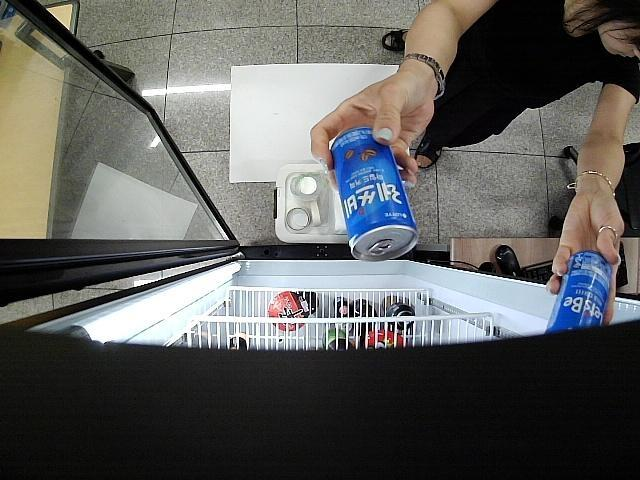15_letsbe: (330, 125, 420, 260), (544, 250, 614, 332)
